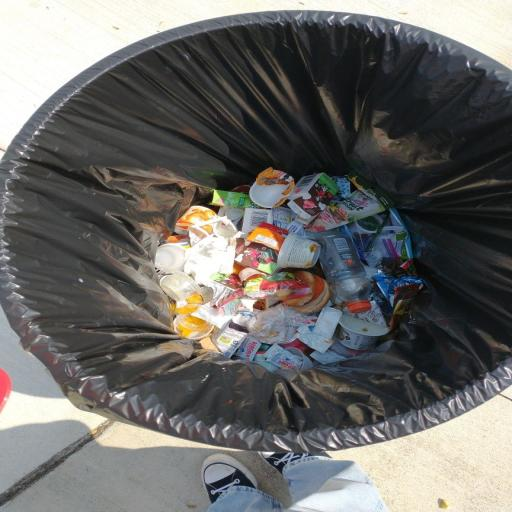traffic_light: (0, 12, 511, 452)
